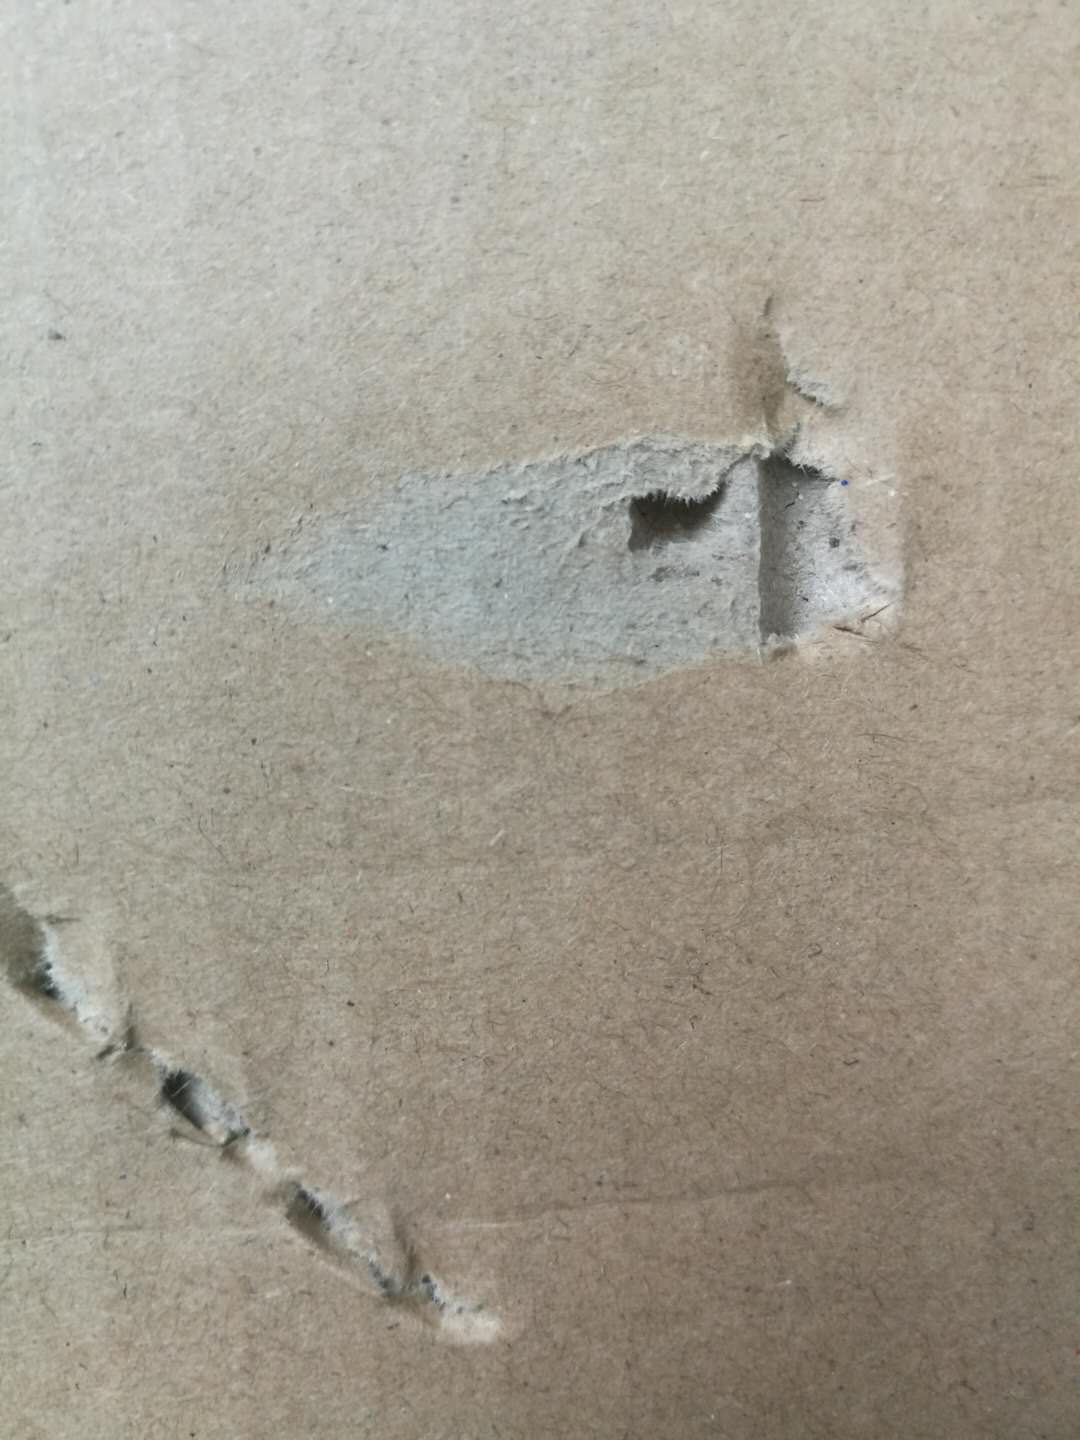defect: (220, 262, 963, 722), (1, 832, 569, 1372)
